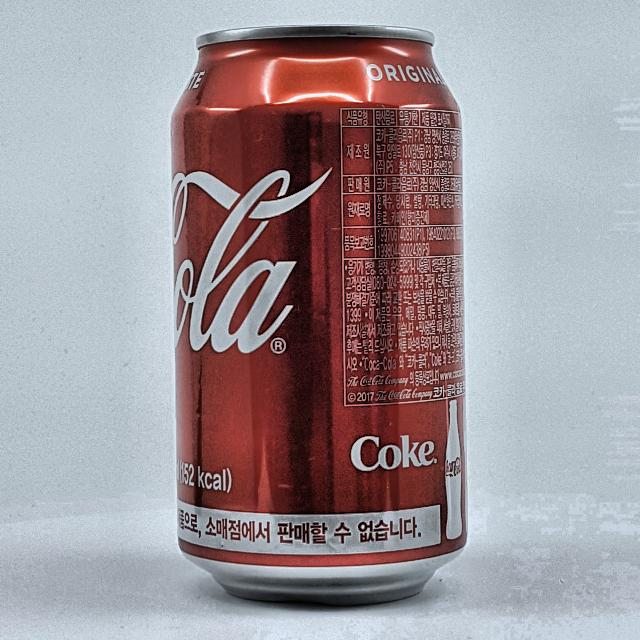cocacola: (172, 25, 466, 605)
